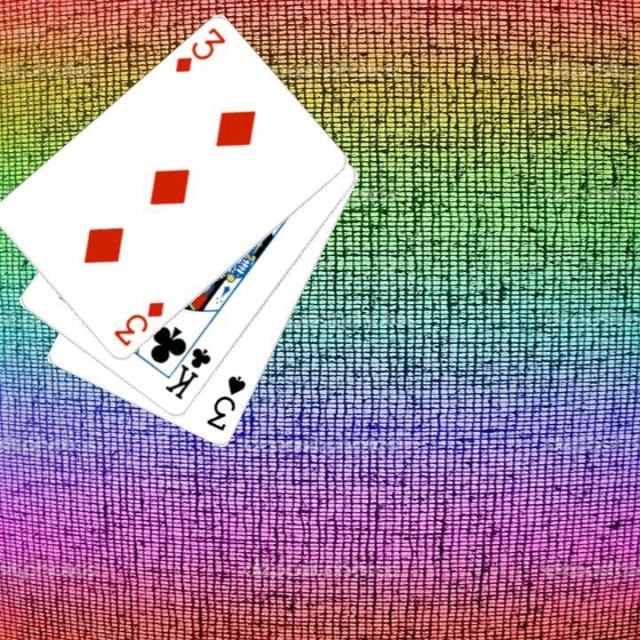3D: (170, 24, 228, 76), (110, 298, 167, 349)
3S: (203, 372, 248, 434)
KC: (161, 332, 213, 402)
